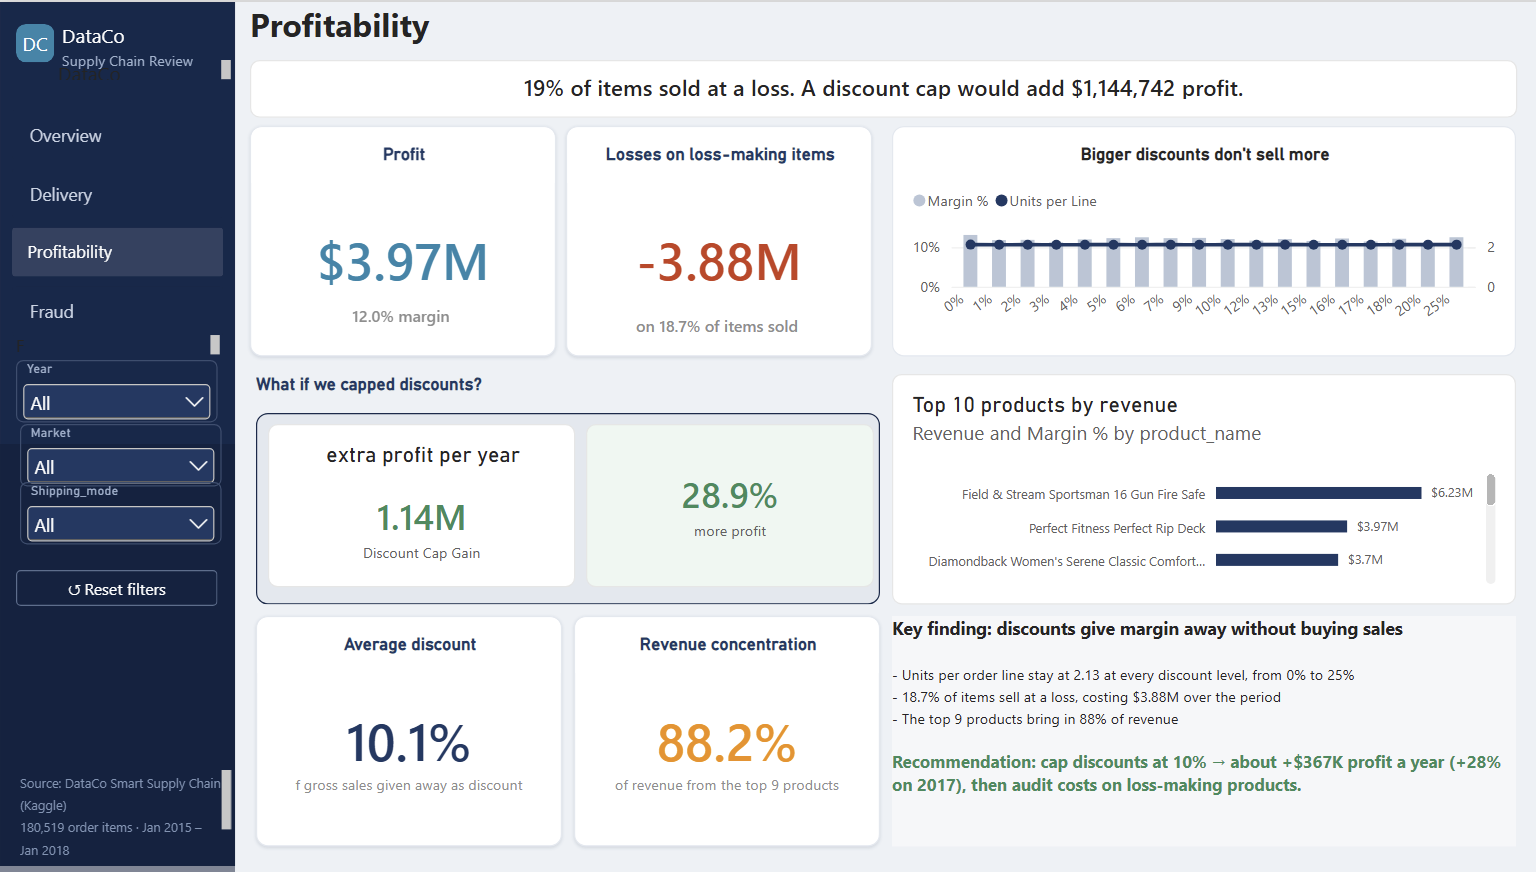

What the dashboard file says about the page in this screenshot:
{"tool":"powerbi","page":{"name":"Profitability","canvas":[1920,1080],"ordinal":2},"visuals":[{"type":"group","id":"g1","title":"Side panel","box":[0,0,196,1080],"z":0},{"type":"shape","box":[0,0,196,720],"z":0,"group":"g1"},{"type":"shape","box":[0,368,196,360],"z":1000,"group":"g1"},{"type":"shape","box":[14,18,32,32],"z":2000,"group":"g1"},{"type":"textbox","box":[0,730,196,350],"z":3000,"group":"g1"},{"type":"textbox","box":[48,48,144,16],"z":4000,"group":"g1"},{"type":"textbox","box":[52,16,140,42],"z":5000,"group":"g1"},{"type":"pageNavigator","box":[10,90,176,190],"z":6000,"group":"g1"},{"type":"textbox","box":[14,276,170,24],"z":7000,"group":"g1"},{"type":"slicer","fields":{"Values":["Calendar.Year"]},"box":[14,298,168,52],"z":8000,"group":"g1"},{"type":"slicer","fields":{"Values":["Markets.market"]},"box":[16,352,168,52],"z":9000,"group":"g1"},{"type":"slicer","fields":{"Values":["orders.shipping_mode"]},"box":[16,400,168,52],"z":10000,"group":"g1"},{"type":"actionButton","box":[14,474,168,30],"z":11000,"group":"g1"},{"type":"textbox","box":[16,640,176,80],"z":12000,"group":"g1"}]}

Visuals, with their boxes on the page's 1920x1080 design canvas (x1, y1, x2, y2). These are canvas units, not pixel positions in the 1536x872 screenshot, which may show the page scaled, cropped or inside an application window:
"Side panel" group: (x1=0, y1=0, x2=196, y2=1080)
shape: (x1=0, y1=0, x2=196, y2=720)
shape: (x1=0, y1=368, x2=196, y2=728)
shape: (x1=14, y1=18, x2=46, y2=50)
textbox: (x1=0, y1=730, x2=196, y2=1080)
textbox: (x1=48, y1=48, x2=192, y2=64)
textbox: (x1=52, y1=16, x2=192, y2=58)
pageNavigator: (x1=10, y1=90, x2=186, y2=280)
textbox: (x1=14, y1=276, x2=184, y2=300)
slicer - Calendar.Year: (x1=14, y1=298, x2=182, y2=350)
slicer - Markets.market: (x1=16, y1=352, x2=184, y2=404)
slicer - orders.shipping_mode: (x1=16, y1=400, x2=184, y2=452)
actionButton: (x1=14, y1=474, x2=182, y2=504)
textbox: (x1=16, y1=640, x2=192, y2=720)
